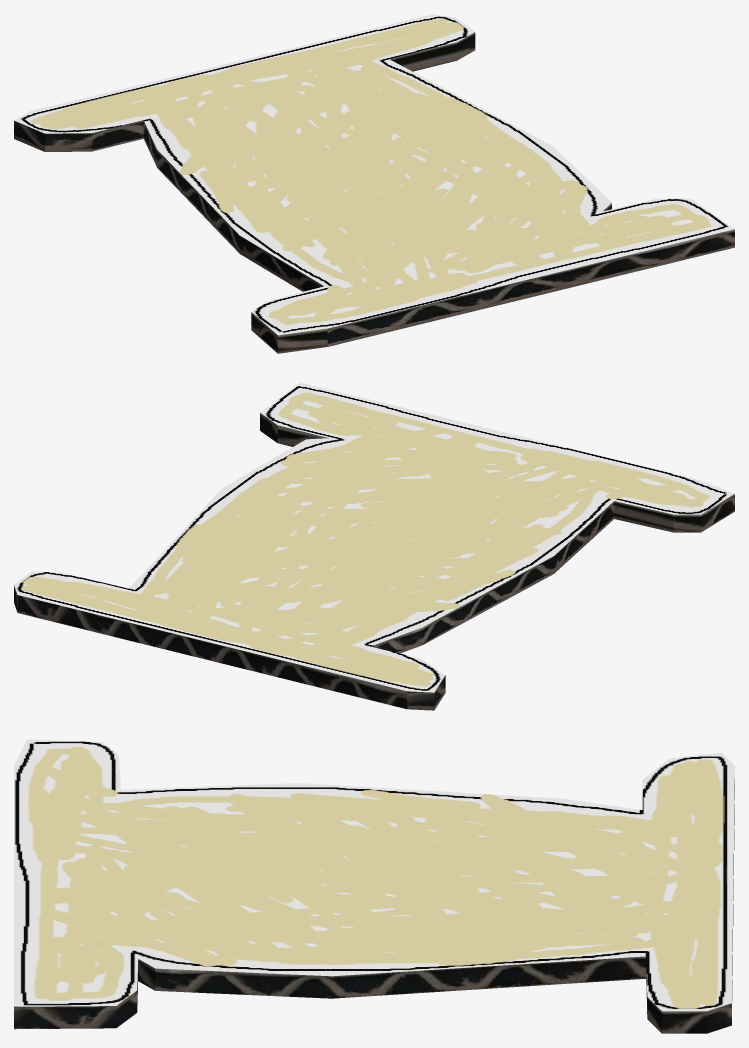
File: pillar.fbx
3 renders of one model, top to bottom at view 1: azimuth 30°, elevation 25°; view 2: azimuth 150°, elevation 25°; view 3: azimuth 270°, elevation 25°, orthographic. The views are drawn at different scales.
Parts seen in each view (by area): view 1: Plane; view 2: Plane; view 3: Plane.
Part boxes in pixels (left/top/right/bottom): Plane: left=14, top=14, right=734, bottom=353; Plane: left=14, top=382, right=734, bottom=710; Plane: left=14, top=739, right=734, bottom=1033.
Size of the model in its own units: 860 by 33 by 964.
